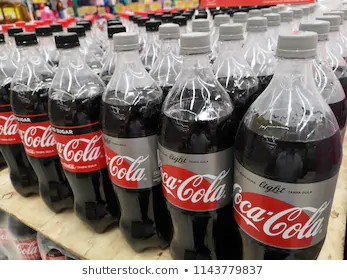coke-bottle-2l: (241, 25, 342, 260), (170, 28, 236, 258), (48, 23, 115, 235), (106, 27, 164, 252), (7, 31, 72, 220)
